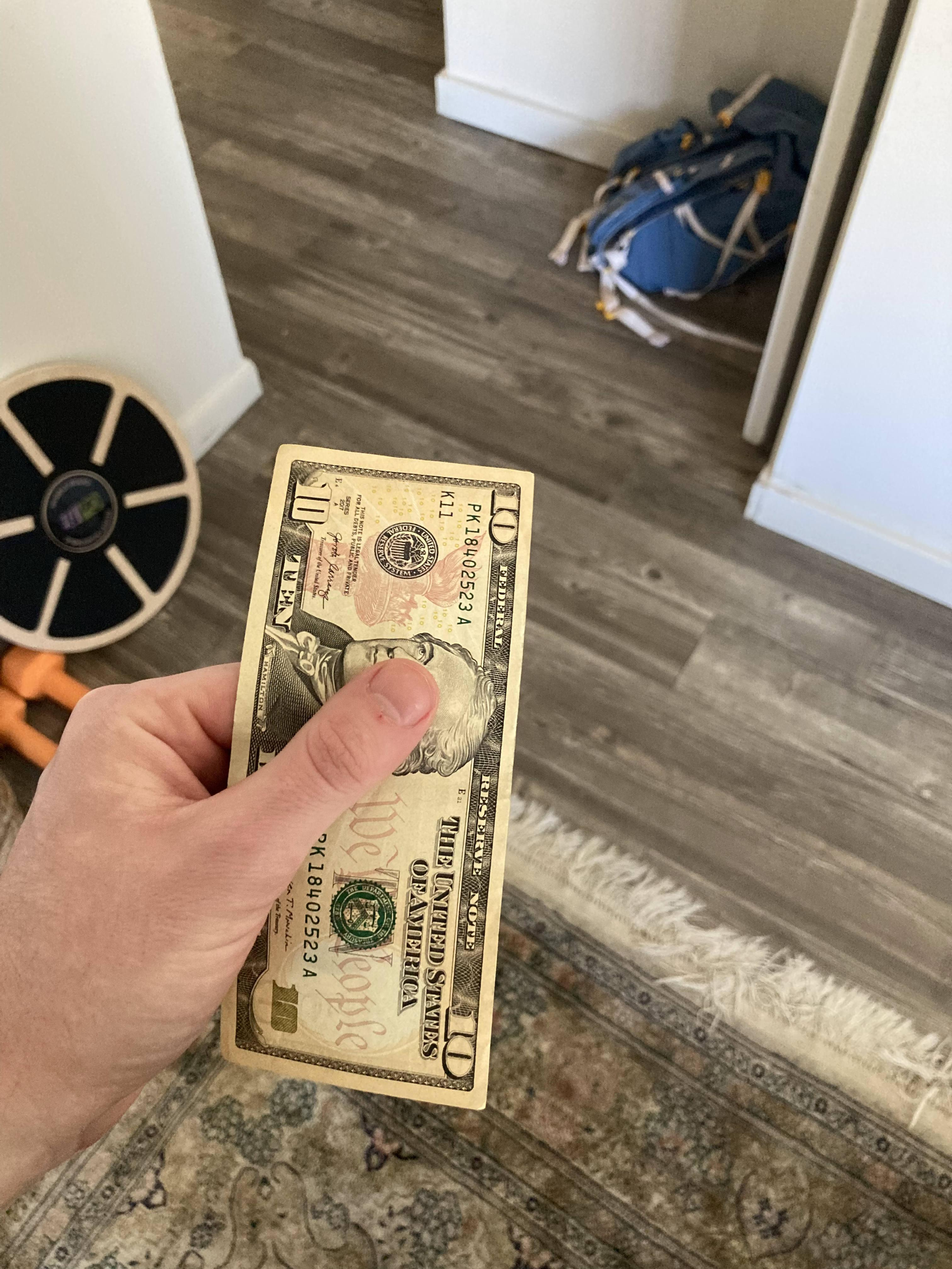ten-front: (216, 441, 535, 1113)
